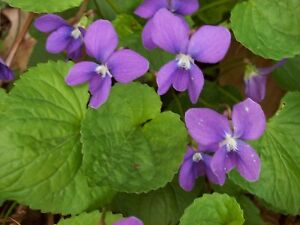violet: (188, 99, 280, 189), (147, 11, 228, 102), (70, 20, 147, 99)
